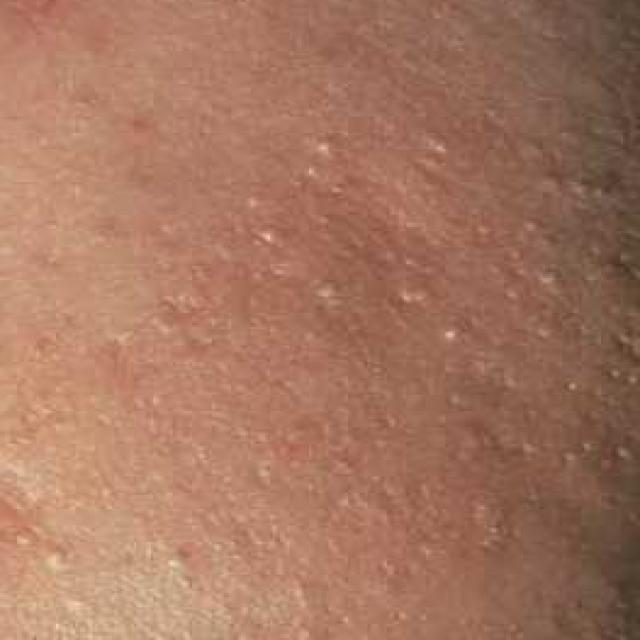whitehead: (238, 80, 542, 440)
